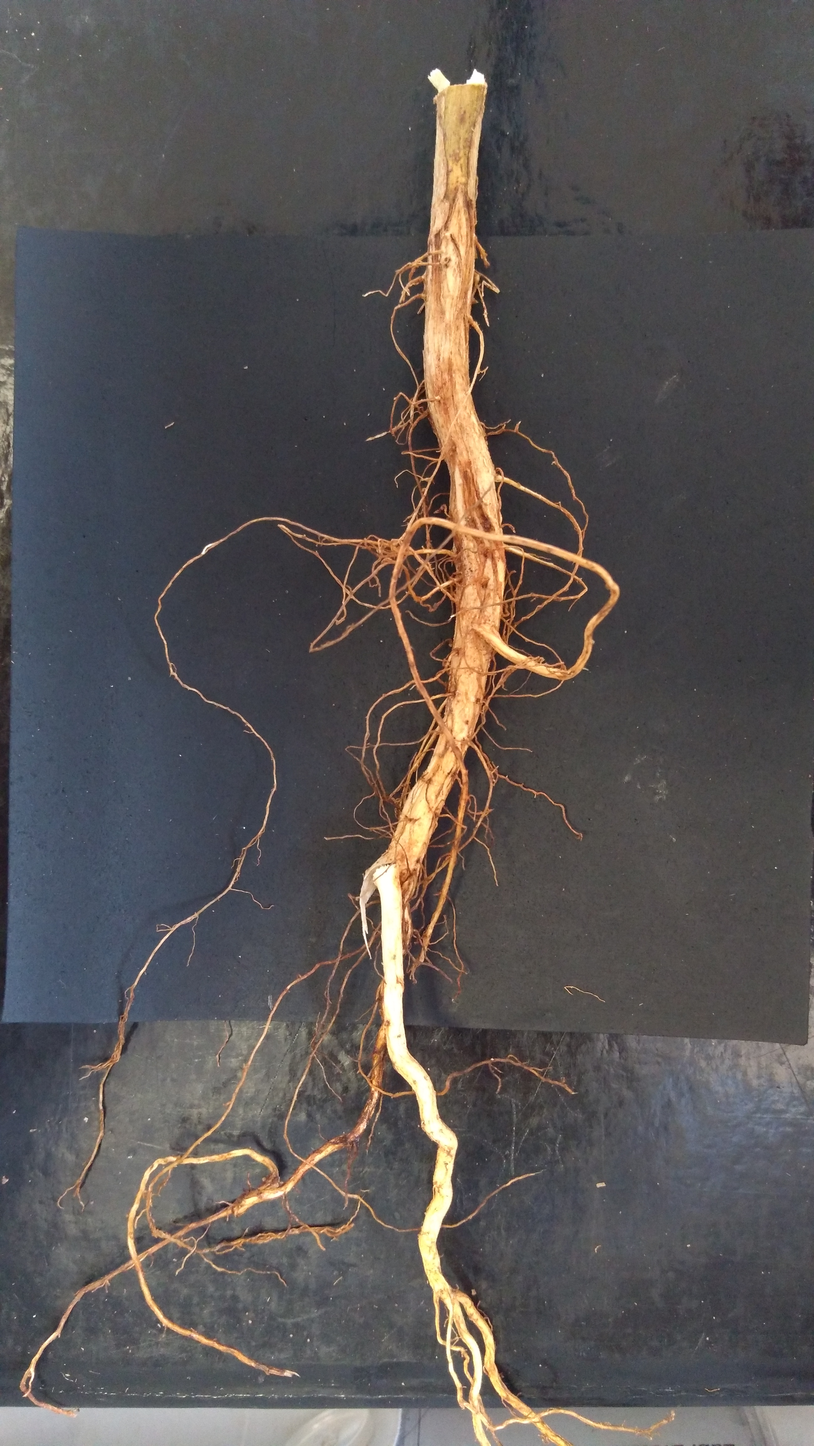nodule: (390, 539, 407, 557), (401, 878, 415, 898), (438, 252, 449, 266), (473, 273, 480, 284), (471, 297, 479, 305), (414, 595, 422, 603), (435, 395, 441, 401), (539, 657, 545, 662), (448, 643, 453, 647), (490, 1057, 494, 1061)
